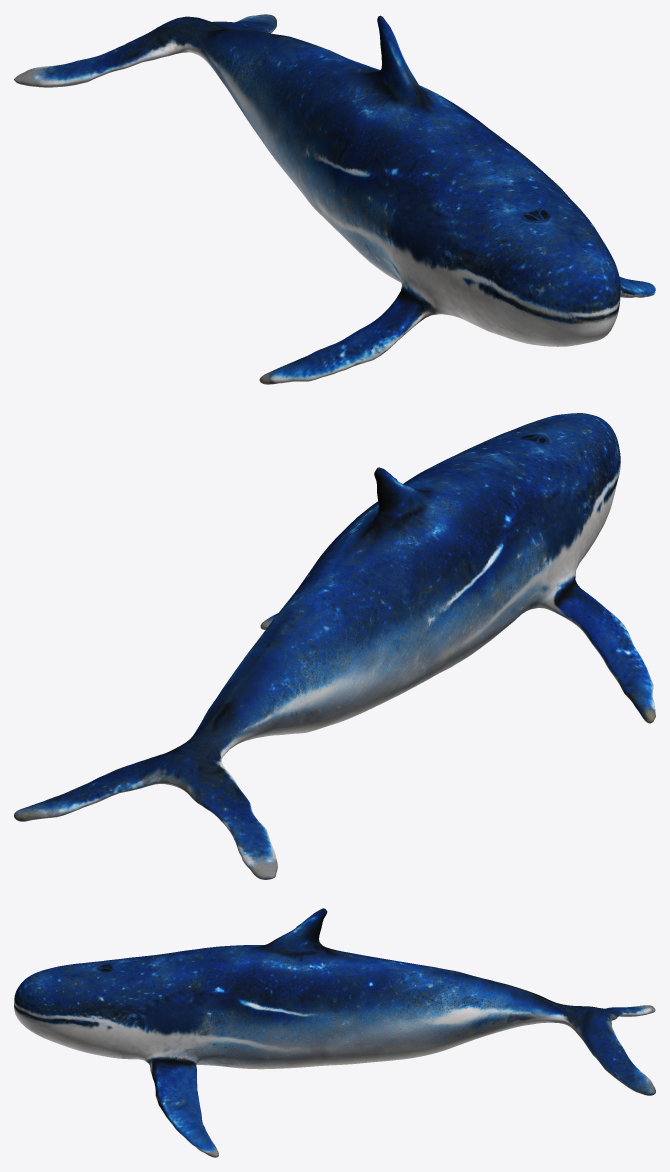
The model's file is uploads_files_5014572_Whale_Quad(1).fbx.
3 views of the same model, one above another, from view 1: azimuth 30°, elevation 25°; view 2: azimuth 150°, elevation 25°; view 3: azimuth 270°, elevation 25° (orthographic). The views are drawn at different scales.
Parts seen in each view (by area): view 1: Whale_Quad; view 2: Whale_Quad; view 3: Whale_Quad.
Part boxes in pixels (bbox=[...]): Whale_Quad: bbox=[14, 14, 655, 384]; Whale_Quad: bbox=[14, 413, 655, 879]; Whale_Quad: bbox=[14, 908, 655, 1157].
Bounding box in the file's own units: 1225 × 789 × 2496.
